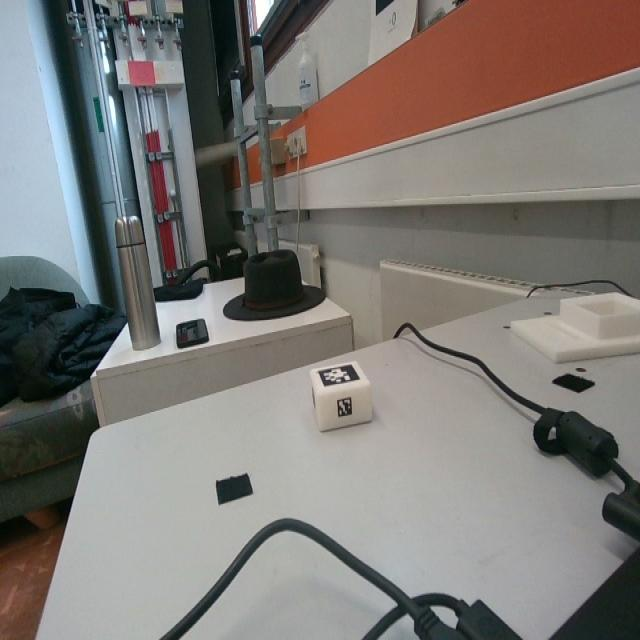Cube: (310, 358, 370, 433)
